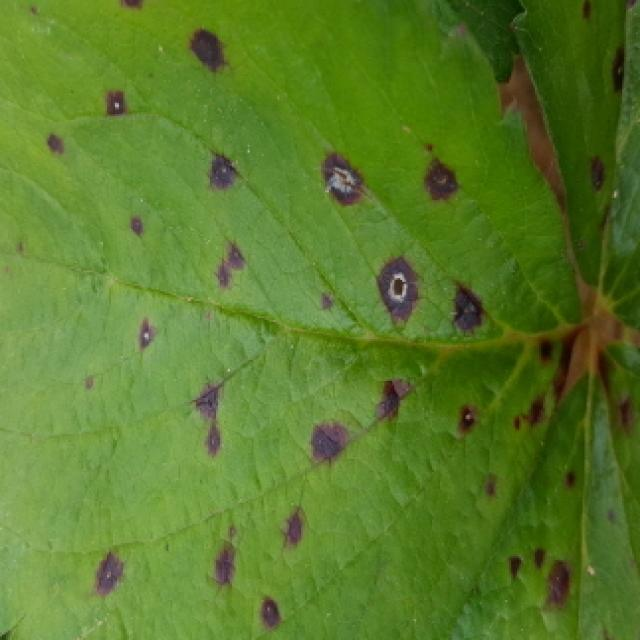Leaf Spot: (445, 342, 640, 640), (508, 0, 640, 331)
